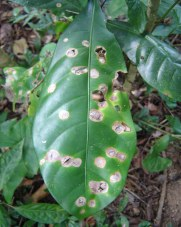ojo de gallo: (56, 23, 134, 206)
